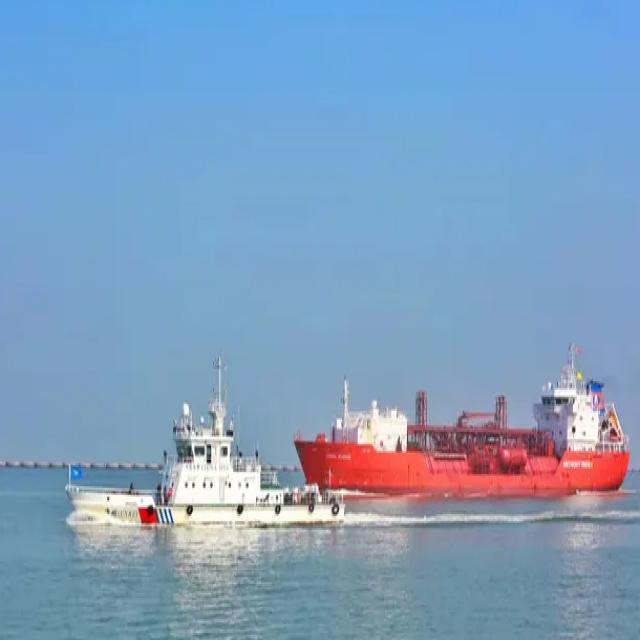cargoship: (290, 330, 638, 510)
houseboat: (63, 312, 348, 539)
